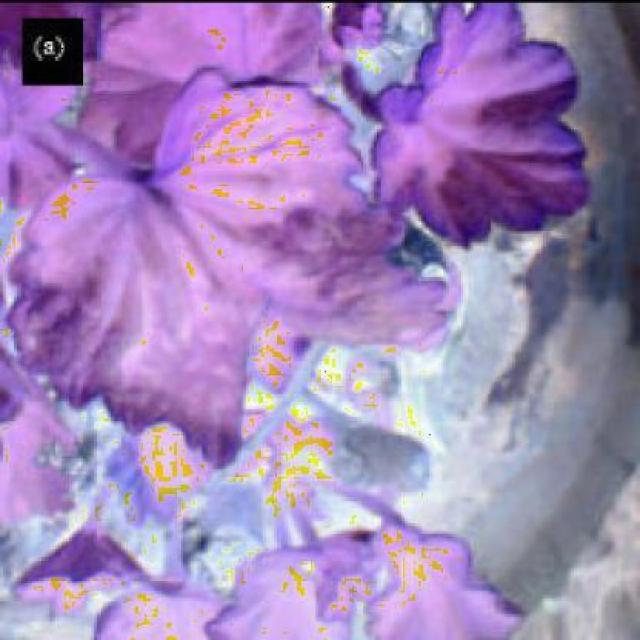Healthy Leaf: (17, 72, 468, 463), (356, 12, 596, 243)
